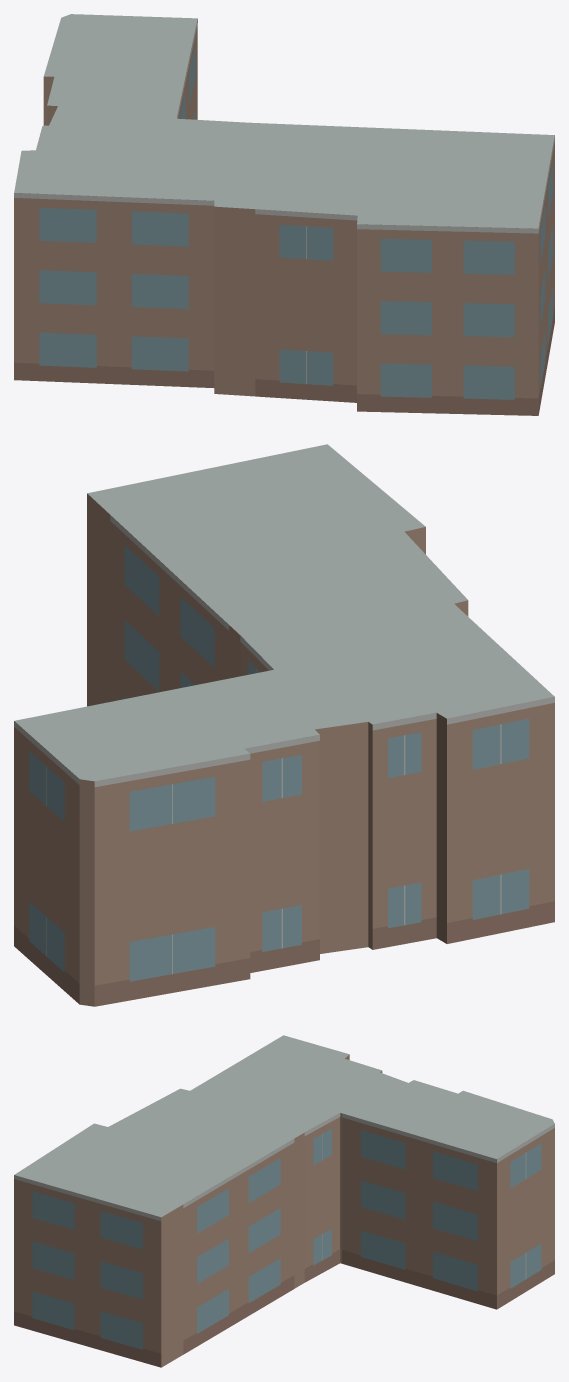
The model's file is survey-upis-32897176.glb.
3 renders of one model, top to bottom at view 1: azimuth 30°, elevation 25°; view 2: azimuth 150°, elevation 25°; view 3: azimuth 270°, elevation 25°, orthographic. The views are drawn at different scales.
Parts seen in each view (by area): view 1: survey-upis-32897176.tmp; view 2: survey-upis-32897176.tmp; view 3: survey-upis-32897176.tmp.
Boxes of the visible parts, bbox=[...] form: survey-upis-32897176.tmp: bbox=[14, 14, 554, 415]; survey-upis-32897176.tmp: bbox=[14, 444, 554, 1006]; survey-upis-32897176.tmp: bbox=[14, 1035, 554, 1367].
Bounding box in the file's own units: 23.77 × 9.15 × 29.83.
